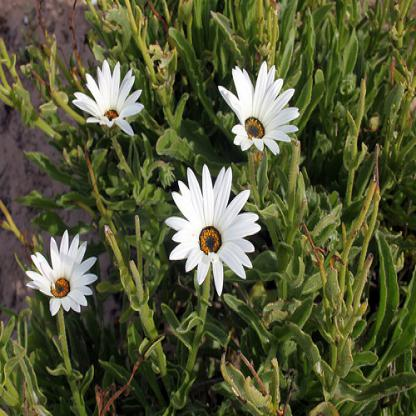ASTER: (13, 202, 126, 397), (166, 131, 266, 301), (206, 24, 318, 164), (58, 24, 158, 160)
